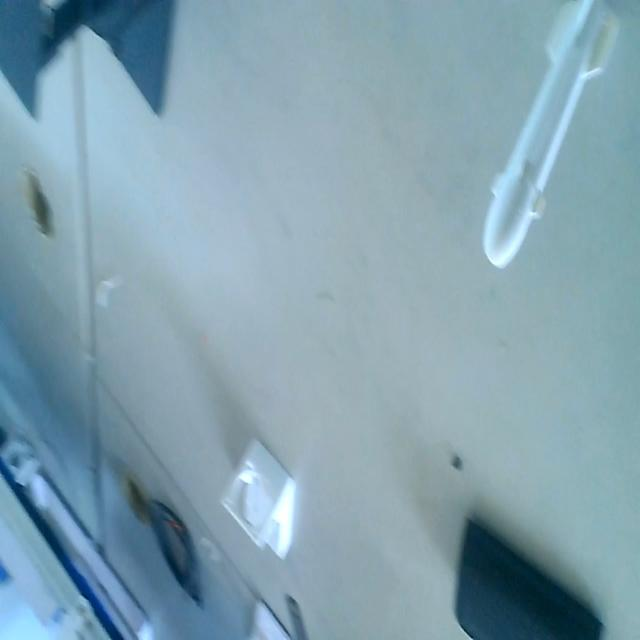Rocket: (480, 0, 622, 277)
